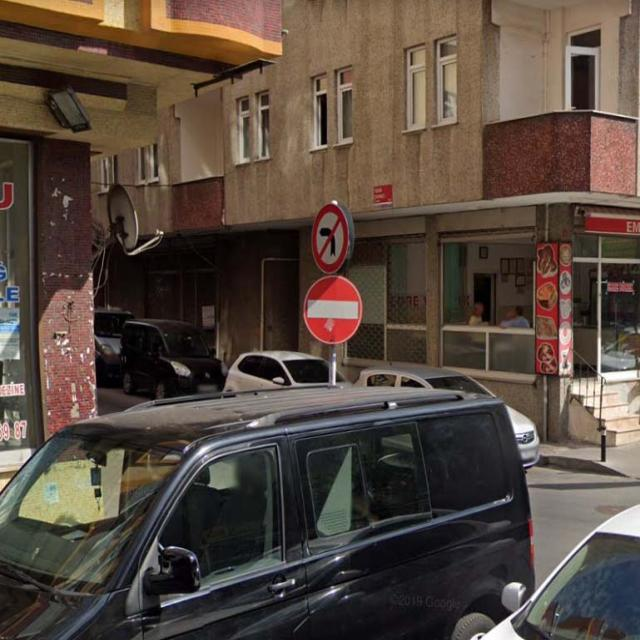girisyok: (305, 274, 362, 344)
soladonulmez: (311, 204, 347, 273)
